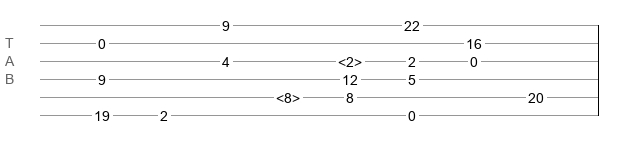0: (98, 36, 106, 46), (408, 108, 416, 118), (470, 54, 478, 64)
12: (342, 72, 358, 82)
16: (466, 36, 482, 46)
19: (94, 108, 110, 118)
2: (160, 108, 168, 118), (408, 54, 416, 64)
20: (528, 90, 544, 100)
22: (404, 18, 420, 28)
4: (222, 54, 230, 64)
5: (408, 72, 416, 82)
8: (346, 90, 354, 100)
9: (98, 72, 106, 82), (222, 18, 230, 28)
harmonic: (276, 90, 300, 100), (338, 54, 362, 64)
